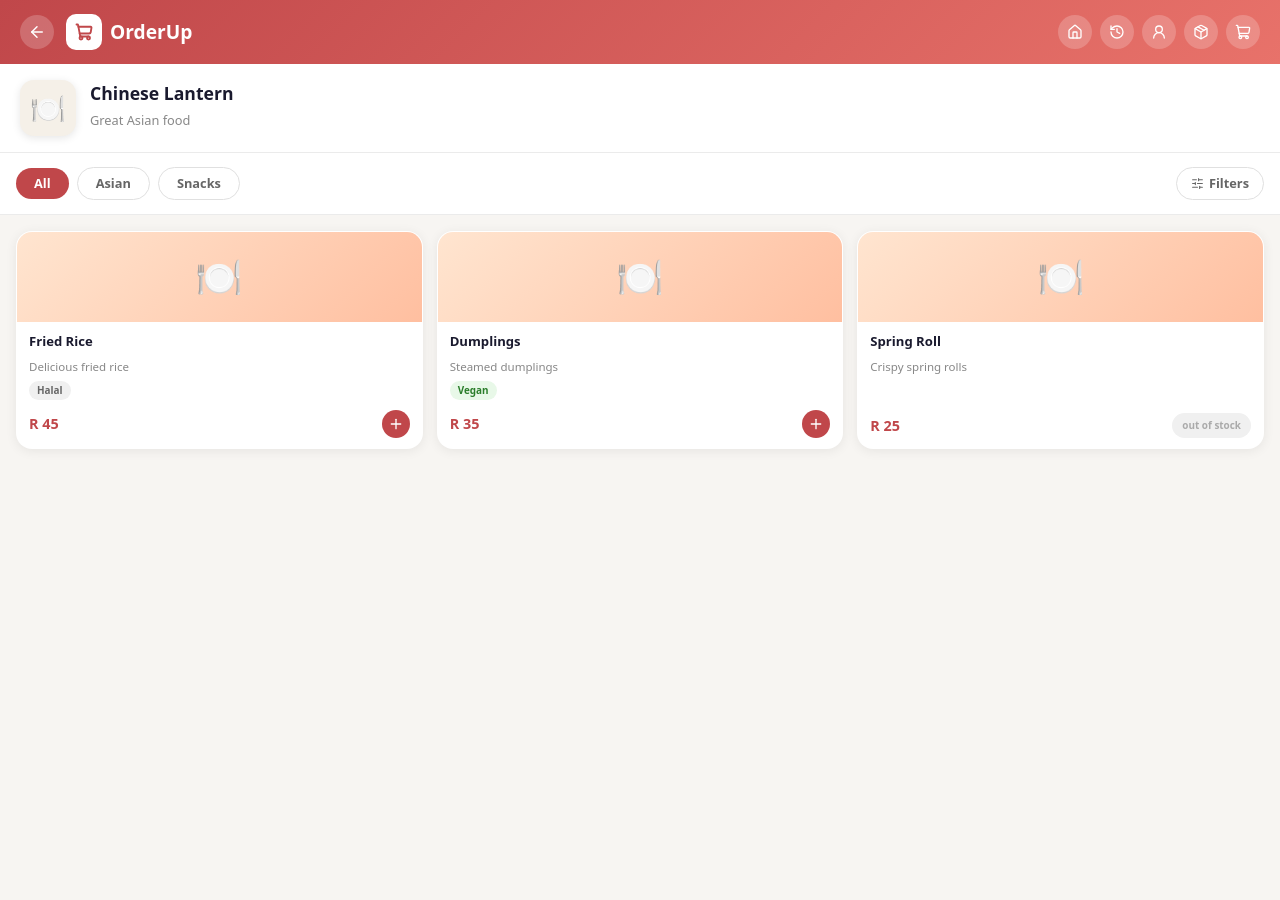
Test: VendorMenuPage › shows correct item count in cart bar
The width and height of the screenshot is (1280, 900).
Check: the heading "Fried Rice" is shown, box [29,332,93,350]
Click the button without text in the row of "45": coordinates (396, 424) [382,410,410,438]
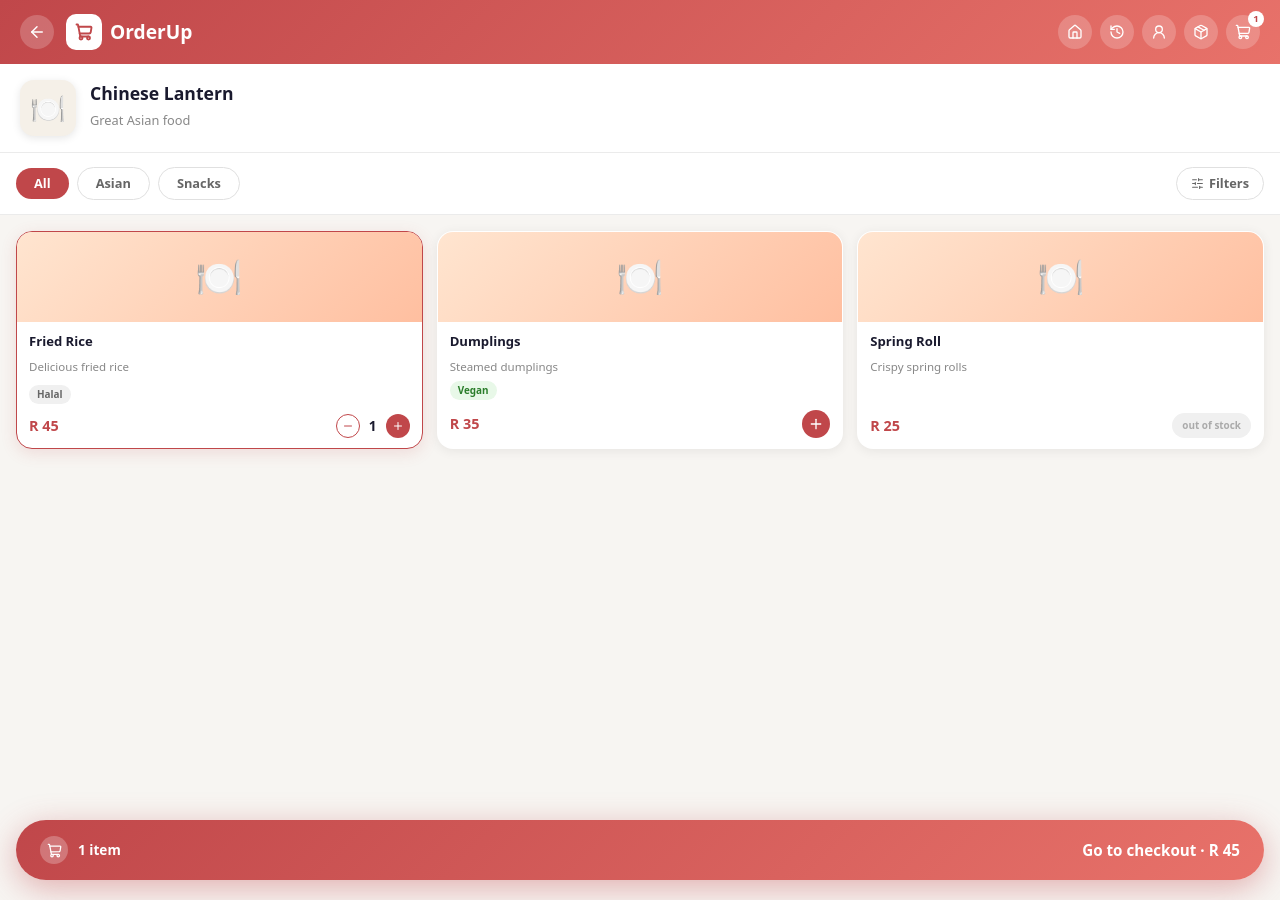
Check: the text "1 item" is shown, box [78,840,121,860]
